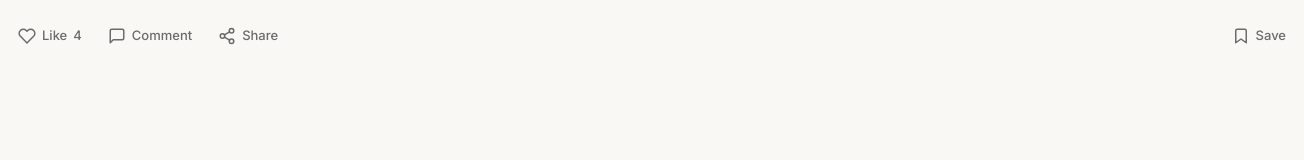
Test: FeedEngagementActions › optimistically likes and reconciles the server count
Click the button with aria-label "Like this item".
click(50, 36)  # box [12,16,88,56]
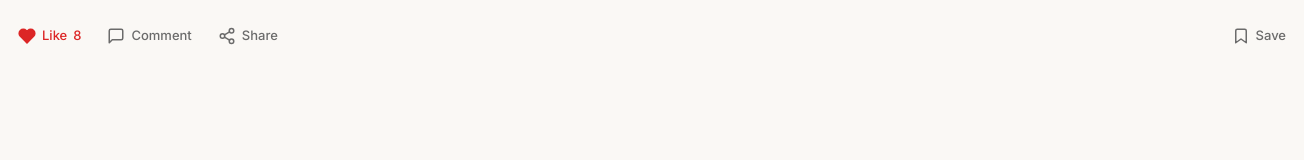
Expected: the text "8" is shown, [73,27,82,45]
